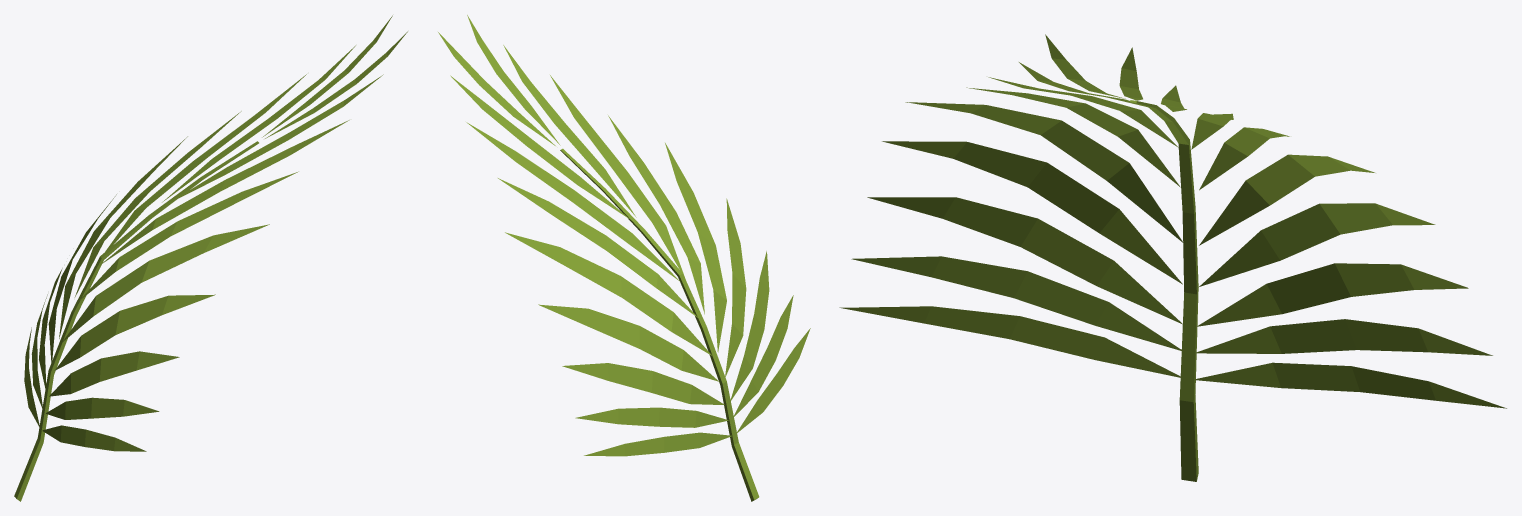
The model's file is Foliage1.fbx.
The picture shows the model from 3 angles, left to right: view 1: azimuth 30°, elevation 25°; view 2: azimuth 150°, elevation 25°; view 3: azimuth 270°, elevation 25°; orthographic projection. The views are drawn at different scales.
Parts seen in each view (by area): view 1: Foliage; view 2: Foliage; view 3: Foliage.
Part boxes in pixels (x1=…): Foliage: x1=14, y1=15, x2=407, y2=501; Foliage: x1=438, y1=15, x2=810, y2=501; Foliage: x1=839, y1=34, x2=1506, y2=481.
Size of the model in its own units: 176 by 192 by 152.
